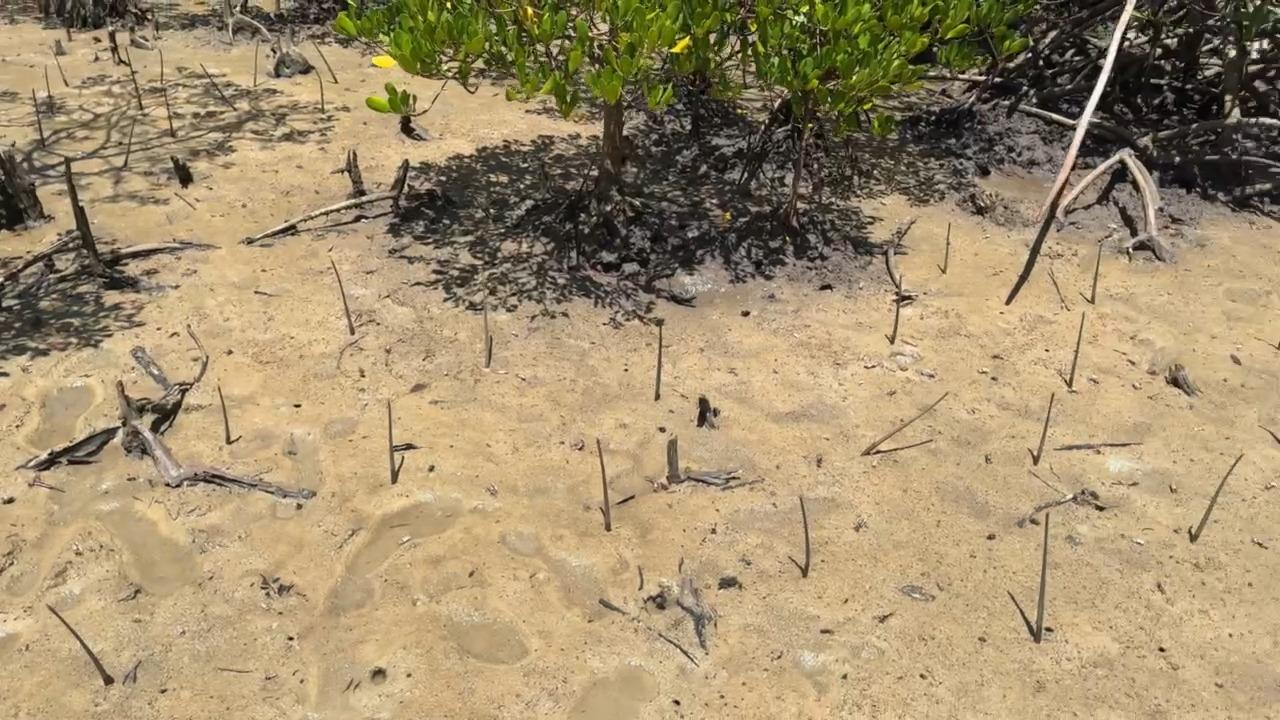Tree: (861, 393, 949, 455), (47, 606, 113, 686), (1192, 452, 1244, 543), (1034, 513, 1051, 643), (332, 259, 356, 335), (200, 63, 237, 110), (1034, 391, 1056, 465), (597, 439, 612, 531), (1069, 310, 1086, 389), (124, 46, 144, 111), (311, 37, 339, 82), (799, 498, 812, 577), (889, 274, 902, 346), (387, 399, 397, 484), (31, 89, 45, 147), (1090, 245, 1103, 304), (51, 47, 70, 87), (654, 324, 664, 400), (219, 386, 231, 444), (123, 120, 137, 167), (484, 303, 492, 367), (45, 66, 55, 114), (315, 69, 325, 113), (166, 91, 175, 137), (943, 223, 951, 274), (254, 40, 260, 86), (159, 48, 164, 84)
